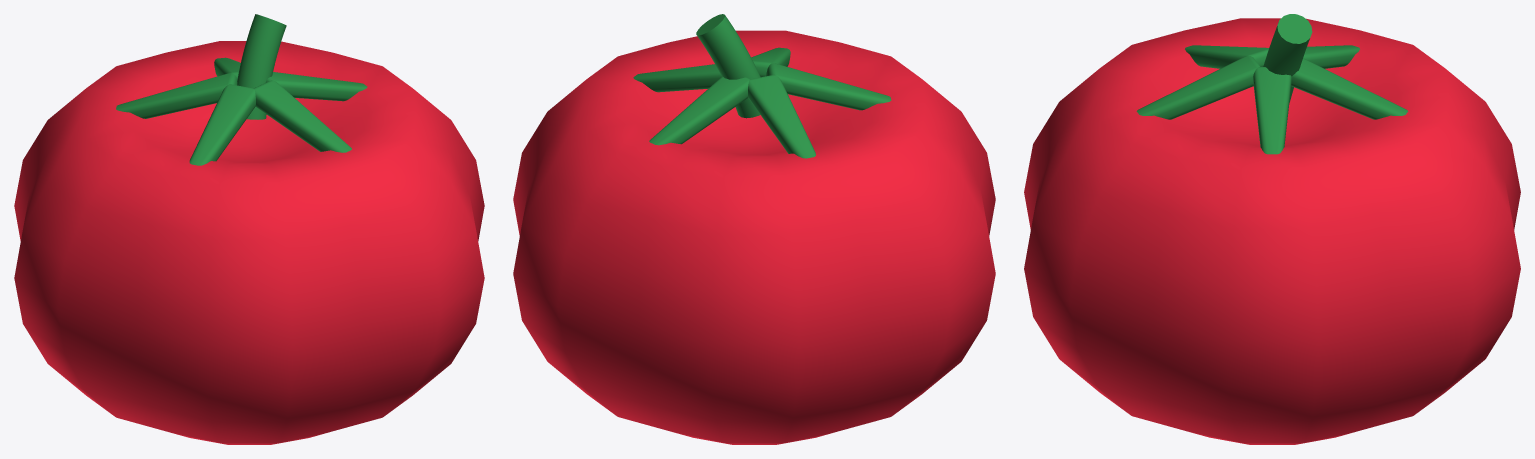
Rendered from food_ingredient_tomato.gltf.
3 views of the same model, side by side, from view 1: azimuth 30°, elevation 25°; view 2: azimuth 150°, elevation 25°; view 3: azimuth 270°, elevation 25° (orthographic). The views are drawn at different scales.
Visible parts, largest first — view 1: TomatoBody; view 2: TomatoBody; view 3: TomatoBody.
Part boxes in pixels (left/top/right/bottom): TomatoBody: left=14, top=14, right=484, bottom=444; TomatoBody: left=513, top=14, right=995, bottom=444; TomatoBody: left=1024, top=14, right=1520, bottom=444.
Bounding box in the file's own units: 0.4653 × 0.3825 × 0.444.
